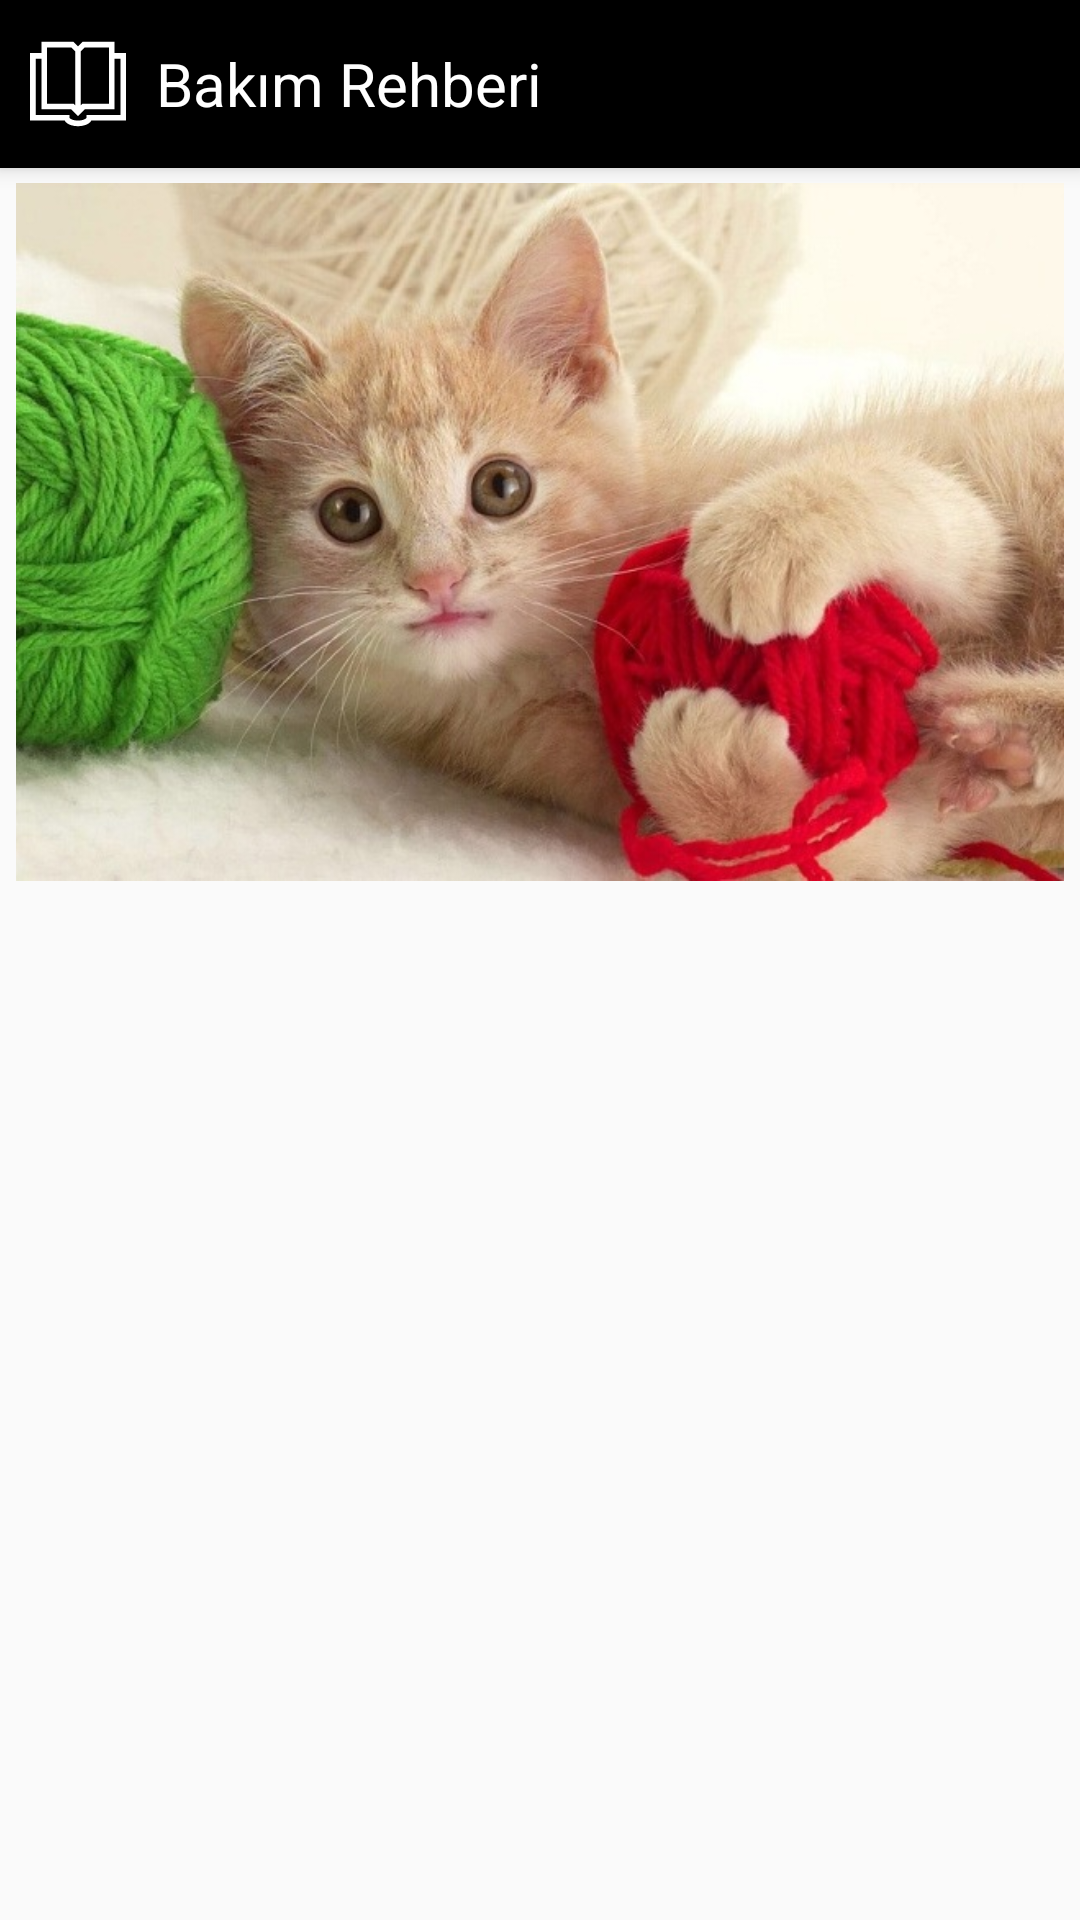

Icons on this 1080px×1920px Android screen, each with the point to tap as (x,y):
guide bwhite: (78,84)
